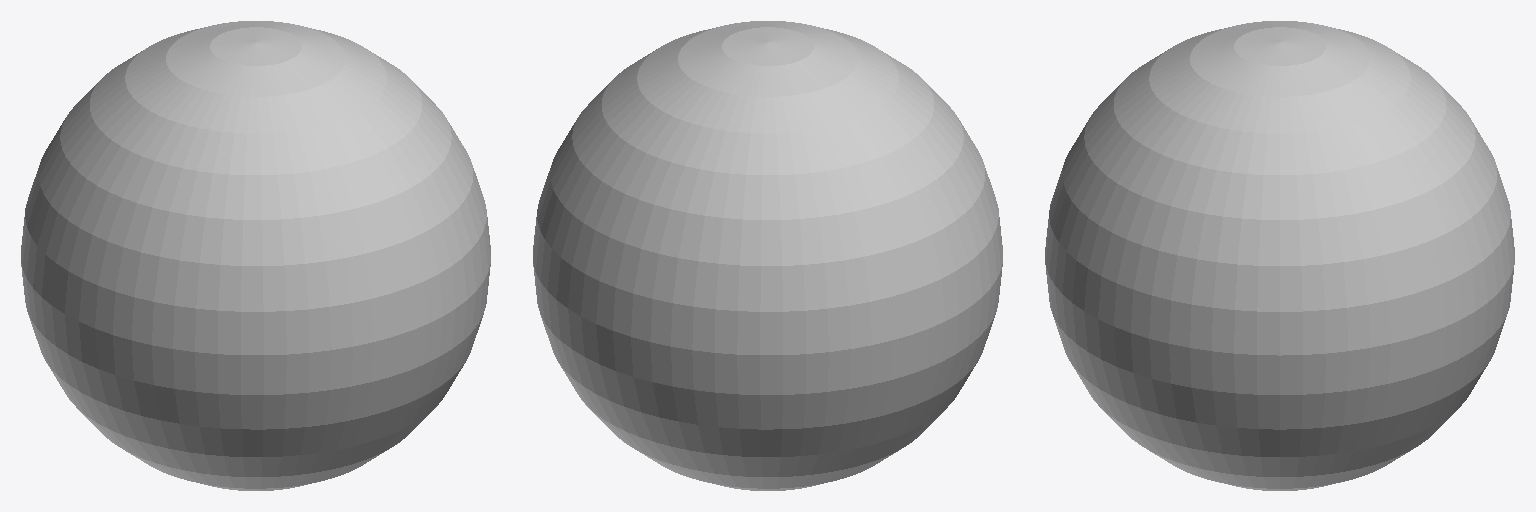
Rendered from SkySphere.obj.
3 views of the same model, side by side, from view 1: azimuth 30°, elevation 25°; view 2: azimuth 150°, elevation 25°; view 3: azimuth 270°, elevation 25° (orthographic).
Visible parts, largest first — view 1: Sphere; view 2: Sphere; view 3: Sphere.
Part boxes in pixels (bbox=[...]): Sphere: bbox=[21, 21, 490, 490]; Sphere: bbox=[533, 21, 1002, 490]; Sphere: bbox=[1045, 21, 1514, 490].
Size of the model in its own units: 2 by 2 by 2.